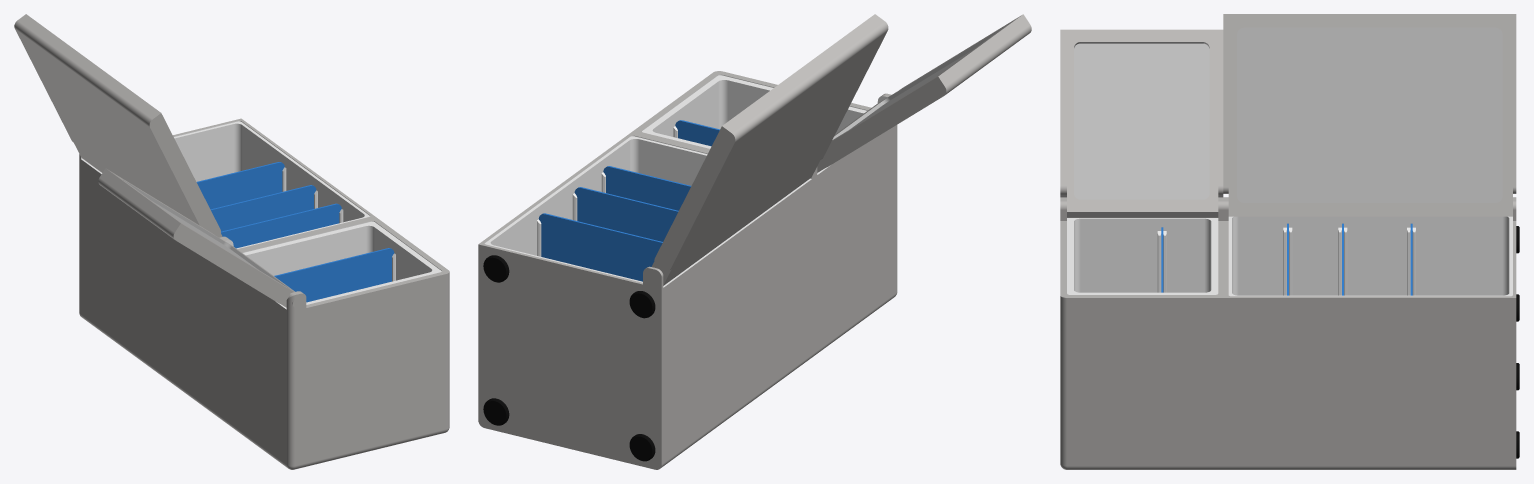
File: Fridge Assembly.fbx
3 views of the same model, side by side, from view 1: azimuth 30°, elevation 25°; view 2: azimuth 150°, elevation 25°; view 3: azimuth 270°, elevation 25° (orthographic). The views are drawn at different scales.
Parts seen in each view (by area): view 1: Body - Part 3, Body - Part 2, Body - Part, Body - Part 5; view 2: Body - Part 3, Body - Part 2, Body - Part, Body - Part 4, Body - Part 5; view 3: Body - Part 3, Body - Part 5, Body - Part 2, Body - Part.
Boxes of the visible parts, bbox=[...] form: Body - Part 3: bbox=[14, 14, 449, 469]; Body - Part 2: bbox=[81, 121, 441, 309]; Body - Part: bbox=[196, 162, 394, 302]; Body - Part 5: bbox=[123, 180, 288, 287]; Body - Part 3: bbox=[478, 14, 1031, 469]; Body - Part 2: bbox=[484, 74, 887, 287]; Body - Part: bbox=[538, 120, 719, 281]; Body - Part 4: bbox=[483, 255, 655, 461]; Body - Part 5: bbox=[832, 27, 1003, 139]; Body - Part 3: bbox=[1060, 14, 1516, 469]; Body - Part 5: bbox=[1074, 27, 1502, 202]; Body - Part 2: bbox=[1067, 216, 1512, 296]; Body - Part: bbox=[1161, 223, 1412, 295].
Bounding box in the file's own units: 128716 × 140519 × 169926.
